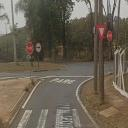preferencia: (96, 24, 106, 42)
